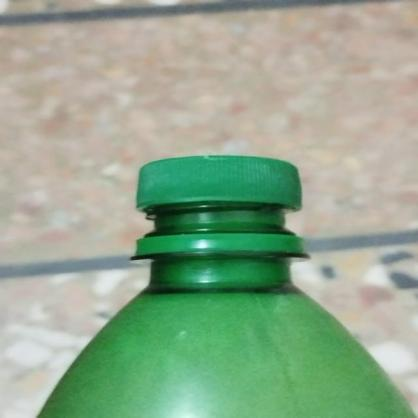cap: (132, 154, 308, 254)
